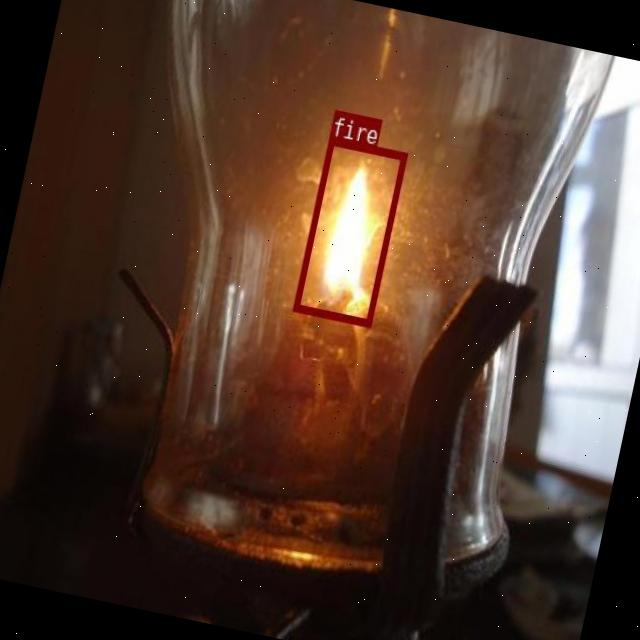fire: (292, 134, 407, 326)
